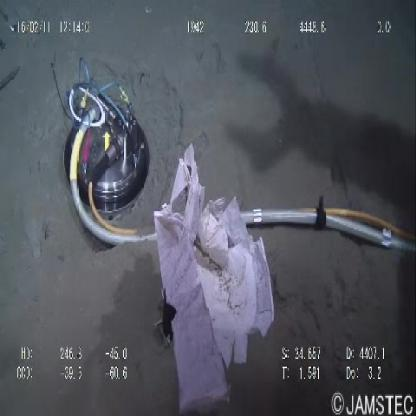Rov: (50, 51, 152, 248)
Rác: (152, 138, 276, 406)
